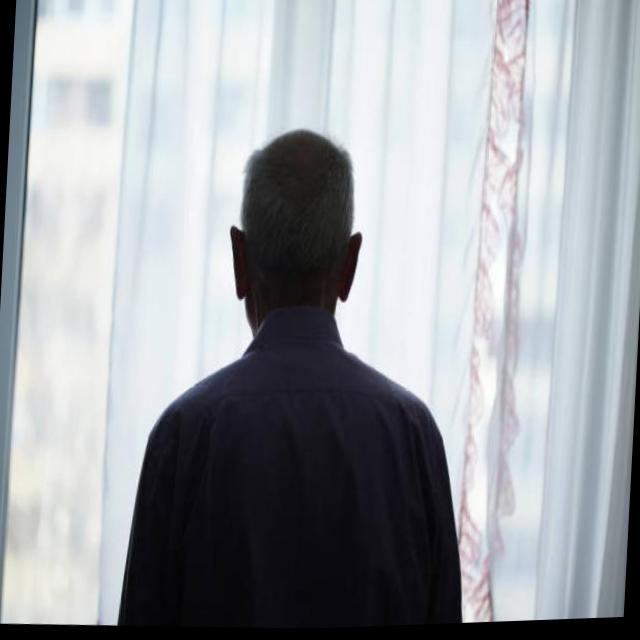no helmet: (196, 97, 392, 357)
